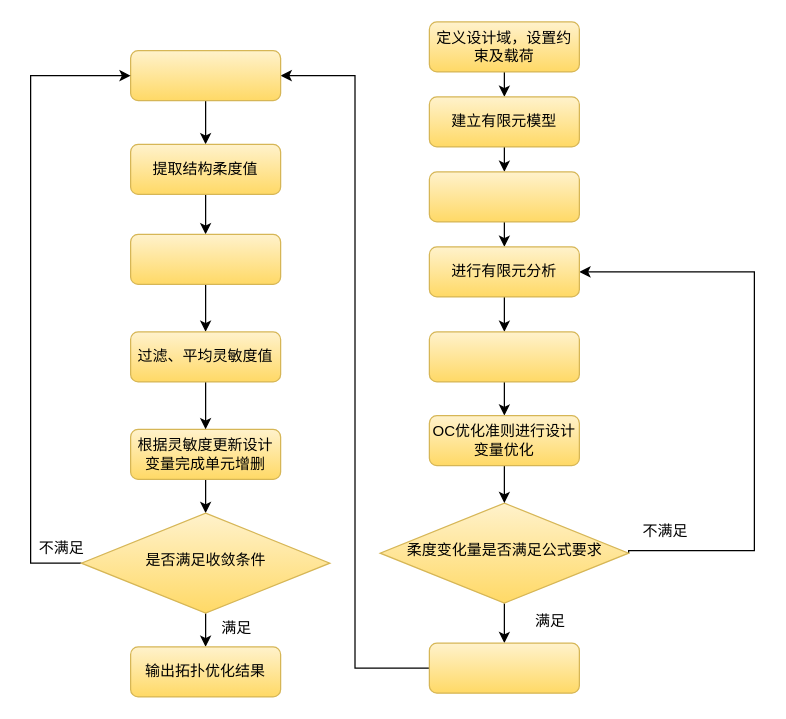
The diagram is 786 pixels wide and 719 high, and some of its shapes have lost their labels. Each missing label, with the box of its shape:
对设计变量进行有限元分析: (129, 49, 281, 101)
根据应变能计算单元灵敏度: (129, 233, 281, 284)
计算结构柔度、灵敏度、进行网格过滤: (428, 331, 579, 382)
设计变量的初始化: (428, 171, 579, 222)
输出设计变量: (428, 642, 579, 693)
